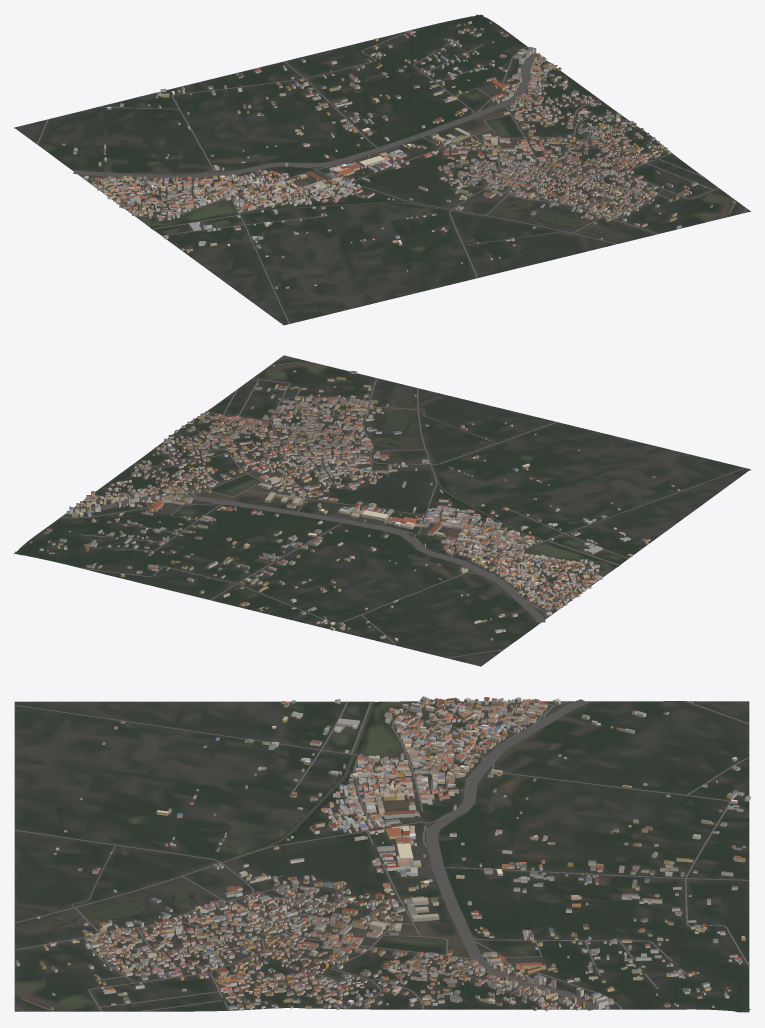
The picture shows the model from 3 angles, top to bottom: view 1: azimuth 30°, elevation 25°; view 2: azimuth 150°, elevation 25°; view 3: azimuth 270°, elevation 25°; orthographic projection. The views are drawn at different scales.
Parts seen in each view (by area): view 1: ground, buildings, roads, water; view 2: ground, buildings, roads, water; view 3: ground, buildings, roads, water.
Part boxes in pixels (x1=…): ground: x1=14, y1=14, x2=750, y2=325; buildings: x1=62, y1=21, x2=734, y2=288; roads: x1=34, y1=29, x2=746, y2=323; water: x1=152, y1=14, x2=607, y2=233; ground: x1=14, y1=355, x2=750, y2=666; buildings: x1=30, y1=364, x2=680, y2=641; roads: x1=60, y1=356, x2=745, y2=658; water: x1=15, y1=397, x2=619, y2=565; ground: x1=14, y1=701, x2=749, y2=1012; buildings: x1=15, y1=696, x2=750, y2=1011; roads: x1=14, y1=699, x2=749, y2=1011; water: x1=53, y1=701, x2=750, y2=1012.
Size of the model in its own units: 1416 by 24.17 by 1406.
